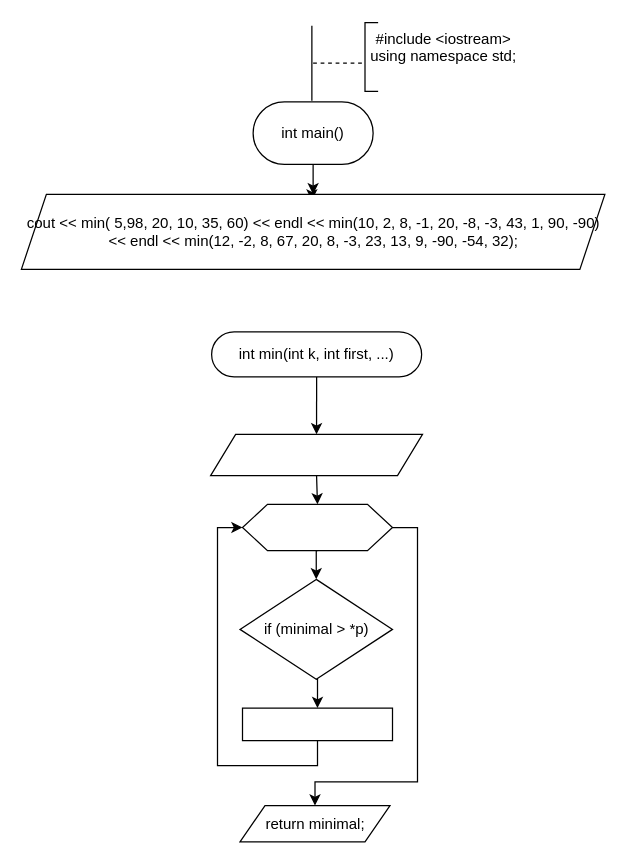
Some shapes in this 628 by 864 pixel diagram are drawn without their labels. Each missing label, with the centre of its shape:
"for (int i=0; i < k; i++)" belongs at point (316, 527).
"int* p = &first; int minimal = 33000;" belongs at point (315, 454).
"minimal = *p;" belongs at point (316, 724).
